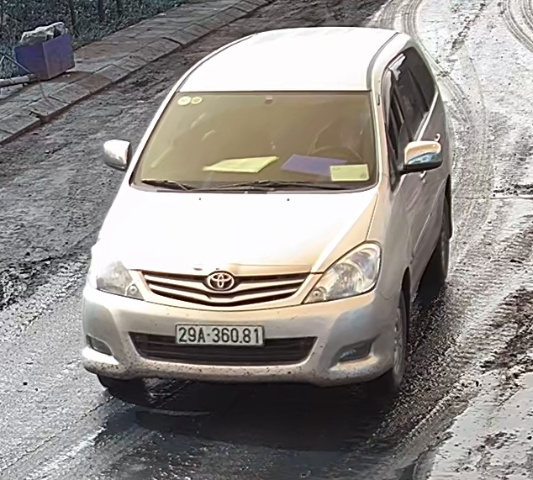vehicle plate: (176, 320, 263, 349)
